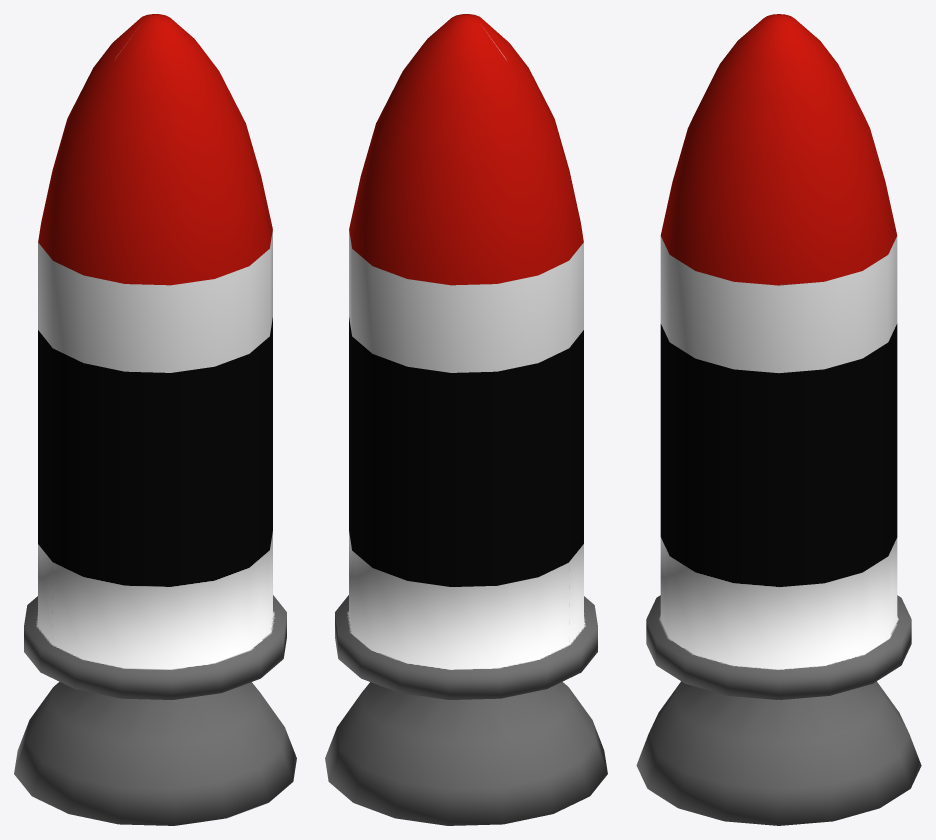
File: rocket.fbx
3 renders of one model, left to right at view 1: azimuth 30°, elevation 25°; view 2: azimuth 150°, elevation 25°; view 3: azimuth 270°, elevation 25°, orthographic.
Parts seen in each view (by area): view 1: Rocket.001; view 2: Rocket.001; view 3: Rocket.001.
Boxes of the visible parts, left/top/right/bottom form: Rocket.001: left=14, top=14, right=296, bottom=825; Rocket.001: left=325, top=14, right=607, bottom=825; Rocket.001: left=636, top=14, right=921, bottom=825.
Size of the model in its own units: 241 by 699 by 241.
